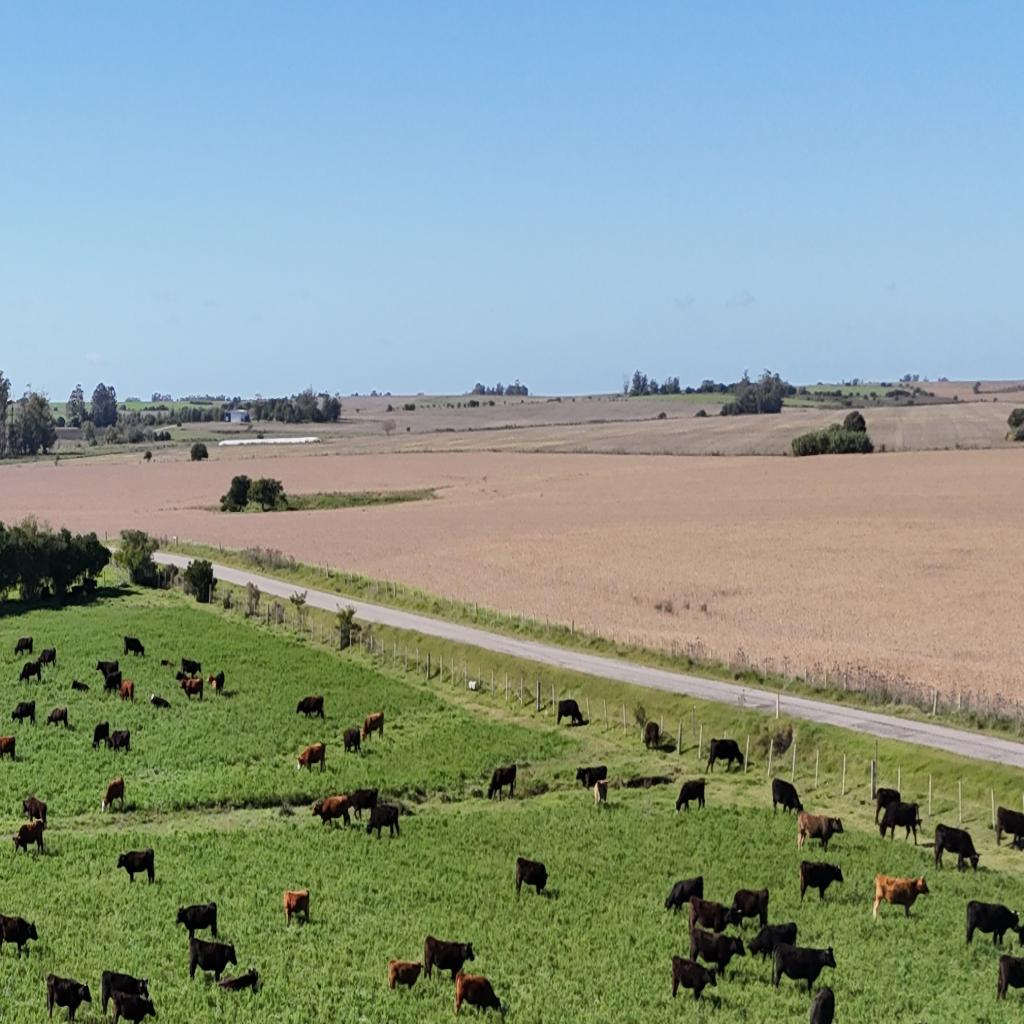cow: (772, 942, 837, 994), (690, 927, 748, 979), (872, 871, 930, 920), (966, 900, 1022, 949), (454, 969, 504, 1020), (425, 934, 475, 984), (188, 936, 238, 984), (101, 969, 151, 1017), (934, 822, 980, 872), (45, 973, 91, 1022), (106, 989, 170, 1023), (671, 955, 717, 1001), (688, 895, 738, 936), (798, 860, 844, 904), (746, 922, 796, 962), (797, 810, 844, 851), (877, 801, 922, 843), (0, 911, 38, 958), (730, 887, 770, 929), (176, 902, 218, 940), (666, 876, 702, 916), (311, 795, 352, 830), (117, 848, 155, 884), (706, 738, 745, 773), (994, 806, 1024, 850), (366, 804, 402, 840), (11, 820, 45, 858), (996, 954, 1024, 1000), (515, 856, 547, 896), (387, 957, 422, 991), (216, 967, 260, 994), (346, 786, 378, 822), (772, 778, 802, 816), (282, 887, 310, 927), (808, 985, 835, 1024), (676, 778, 706, 812), (873, 787, 901, 823), (488, 764, 516, 800), (296, 742, 326, 774), (101, 776, 126, 812), (22, 794, 48, 828), (576, 765, 607, 791), (557, 699, 585, 727), (296, 694, 324, 720), (362, 710, 384, 742), (11, 700, 36, 728), (19, 661, 42, 686), (342, 727, 362, 755), (96, 659, 120, 682), (180, 678, 203, 702), (109, 729, 131, 754), (46, 706, 68, 730), (593, 778, 609, 810), (92, 721, 110, 749), (122, 636, 144, 658), (180, 657, 202, 679), (644, 720, 660, 750), (14, 636, 34, 658), (103, 672, 121, 696), (0, 735, 16, 762), (207, 672, 225, 695), (119, 678, 134, 704), (40, 646, 56, 668), (149, 693, 171, 709), (83, 577, 97, 594), (797, 825, 806, 850), (71, 680, 89, 692), (175, 670, 190, 684), (160, 658, 173, 667)
